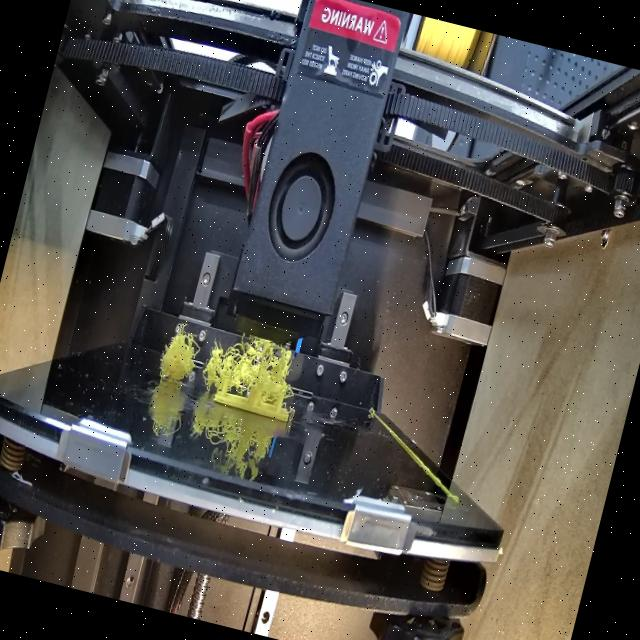spaghetti: (156, 314, 298, 413)
